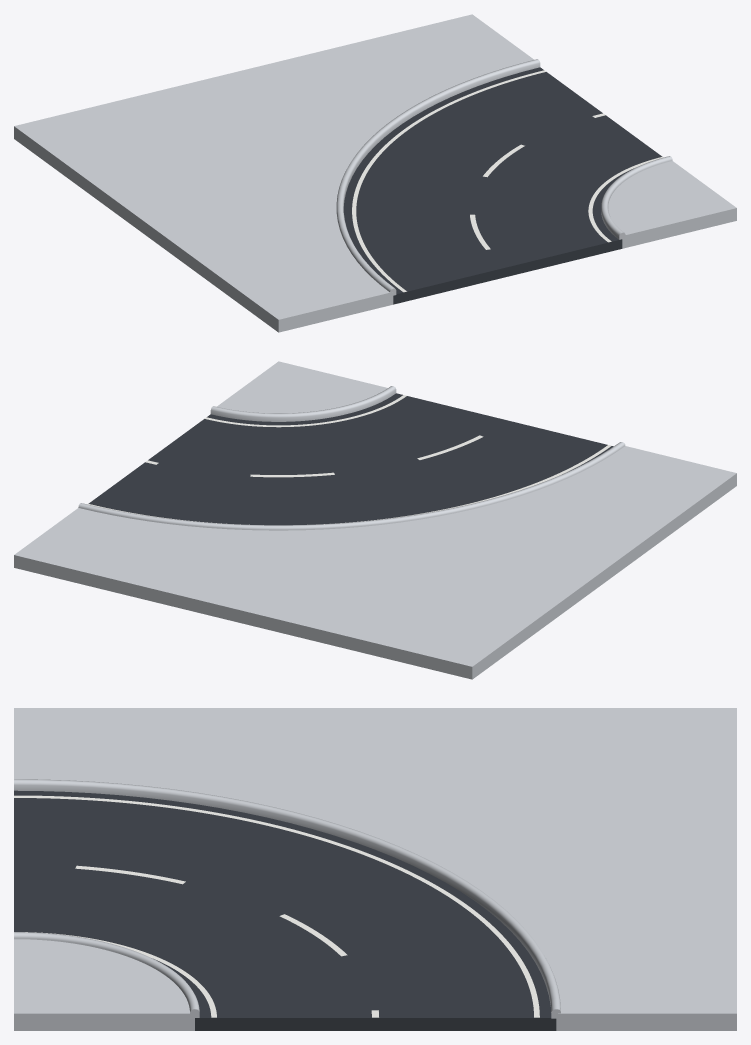
The model's file is rua_curva.glb.
3 renders of one model, top to bottom at view 1: azimuth 30°, elevation 25°; view 2: azimuth 150°, elevation 25°; view 3: azimuth 270°, elevation 25°, orthographic. The views are drawn at different scales.
Parts seen in each view (by area): view 1: rua_curva; view 2: rua_curva; view 3: rua_curva.
Boxes of the visible parts, box(x1,y1,x2,y2) form: rua_curva: box(14, 14, 736, 332); rua_curva: box(14, 361, 736, 679); rua_curva: box(14, 708, 736, 1030).
Bounding box in the file's own units: 15 × 0.5 × 15.
Materials: 1 (1 with a texture image).
